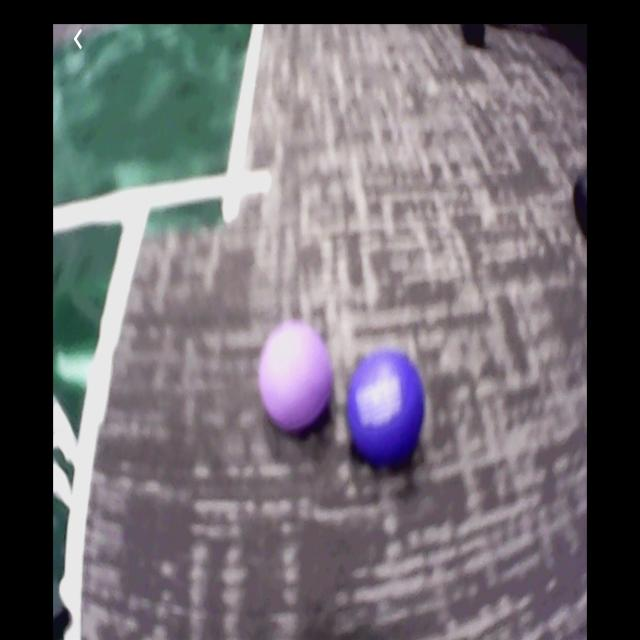ball: (347, 351, 428, 478), (261, 319, 333, 437)
